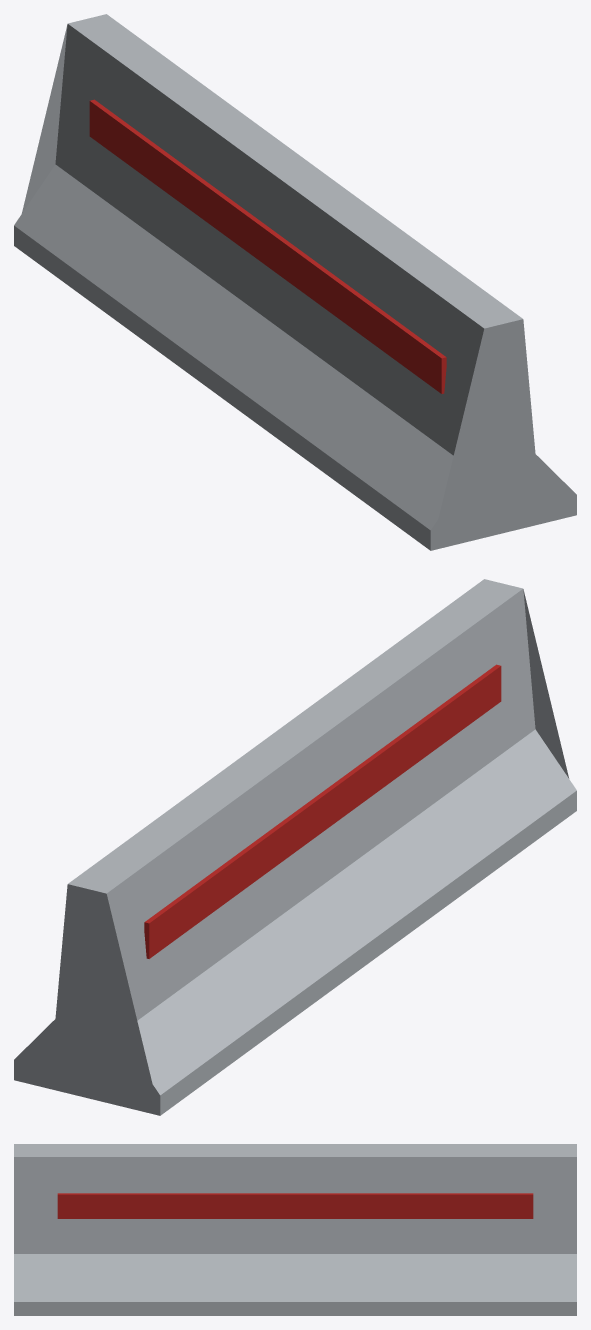
Rendered from sw_trk_jersey.glb.
3 views of the same model, one above another, from view 1: azimuth 30°, elevation 25°; view 2: azimuth 150°, elevation 25°; view 3: azimuth 270°, elevation 25° (orthographic). The views are drawn at different scales.
Visible parts, largest first — view 1: sw_trk_jersey; view 2: sw_trk_jersey; view 3: sw_trk_jersey.
Boxes of the visible parts, x1=… form: sw_trk_jersey: x1=14, y1=14, x2=576, y2=550; sw_trk_jersey: x1=14, y1=579, x2=576, y2=1115; sw_trk_jersey: x1=14, y1=1144, x2=576, y2=1315.
Size of the model in its own units: 0.5998 by 0.82 by 2.96.
